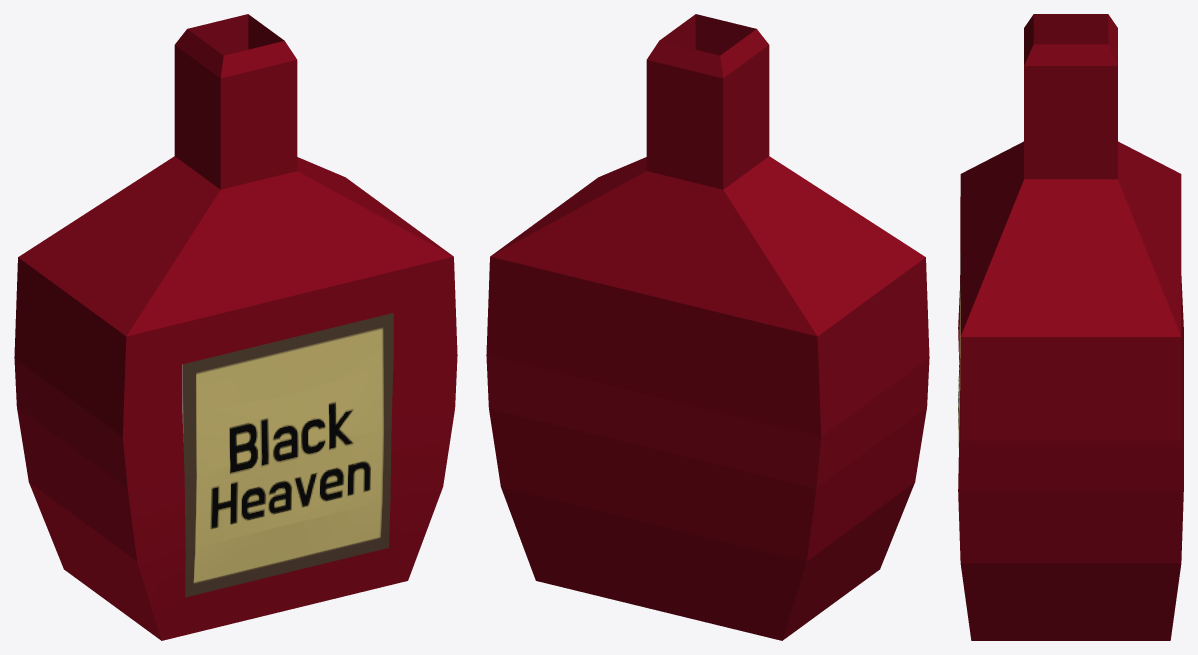
File: Liquor_Black_heaven.fbx
3 views of the same model, side by side, from view 1: azimuth 30°, elevation 25°; view 2: azimuth 150°, elevation 25°; view 3: azimuth 270°, elevation 25° (orthographic).
Parts seen in each view (by area): view 1: pCube3; view 2: pCube3; view 3: pCube3.
Boxes of the visible parts, x1=… form: pCube3: x1=14, y1=14, x2=457, y2=640; pCube3: x1=486, y1=14, x2=929, y2=640; pCube3: x1=958, y1=14, x2=1183, y2=640.
Size of the model in its own units: 1.36 by 2.1 by 0.7811.
Materials: 3 (3 with a texture image).
